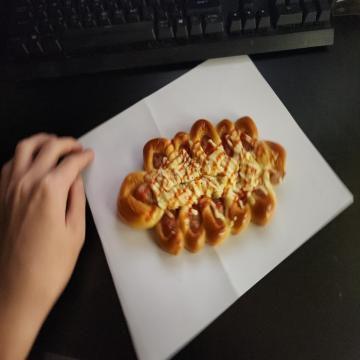pizza_bread: (117, 115, 287, 259)
